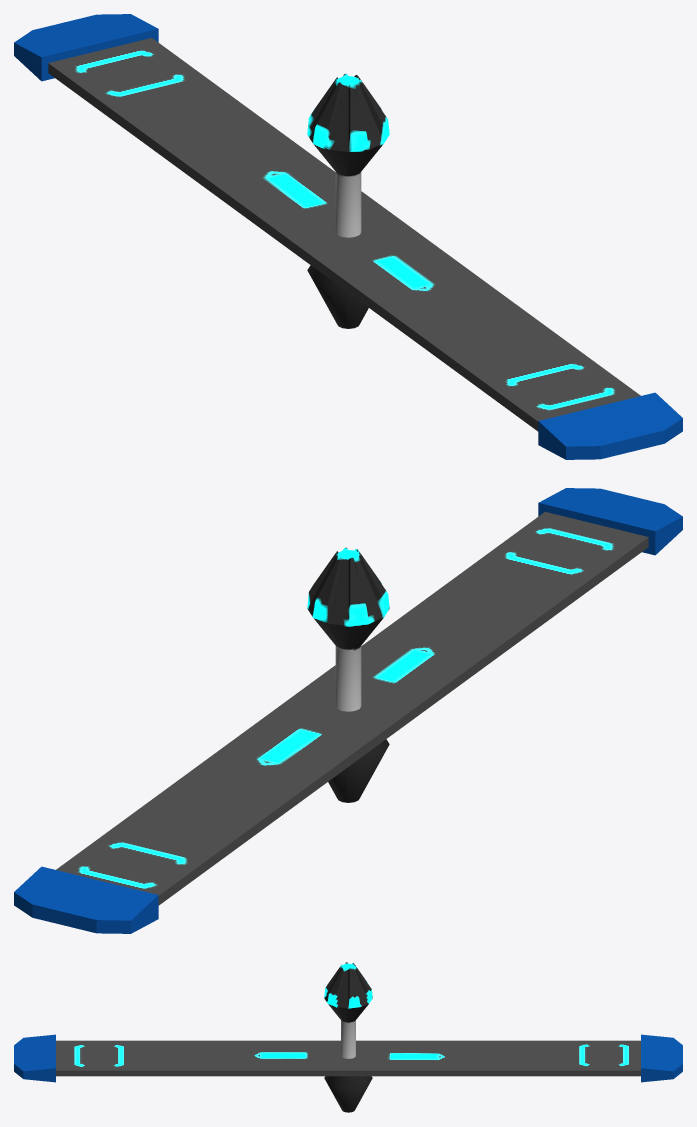
Rendered from plataforma giratoria.glb.
3 views of the same model, one above another, from view 1: azimuth 30°, elevation 25°; view 2: azimuth 150°, elevation 25°; view 3: azimuth 270°, elevation 25° (orthographic). The views are drawn at different scales.
Parts seen in each view (by area): view 1: Cylinder, Cube, Cylinder.001; view 2: Cylinder, Cube, Cylinder.001; view 3: Cylinder, Cylinder.001, Cube.
Part boxes in pixels (<box>): Cylinder: <box>48,38,640,431</box>; Cube: <box>14,14,682,459</box>; Cylinder.001: <box>307,73,389,328</box>; Cylinder: <box>56,512,648,905</box>; Cube: <box>14,488,682,933</box>; Cylinder.001: <box>307,547,389,802</box>; Cylinder: <box>56,1040,640,1076</box>; Cylinder.001: <box>324,962,372,1112</box>; Cube: <box>14,1034,682,1082</box>.
Bounding box in the file's own units: 1.76 × 3.52 × 14.79.
Materials: 1 (1 with a texture image).
